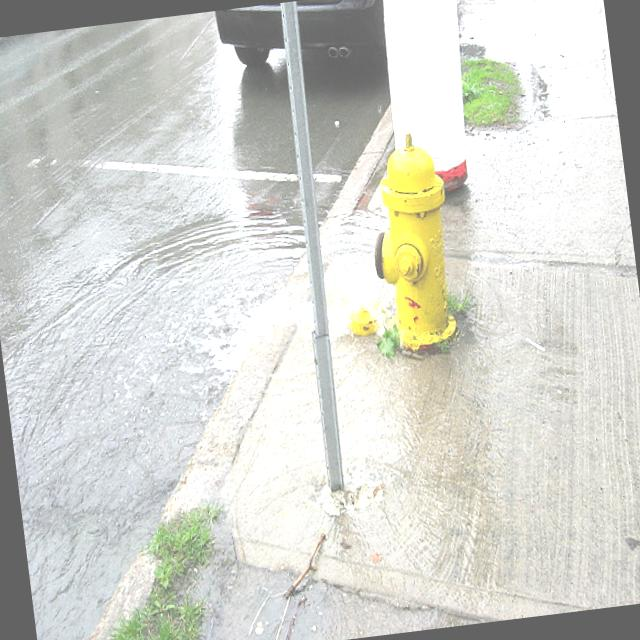Vehicle: (215, 0, 392, 76)
